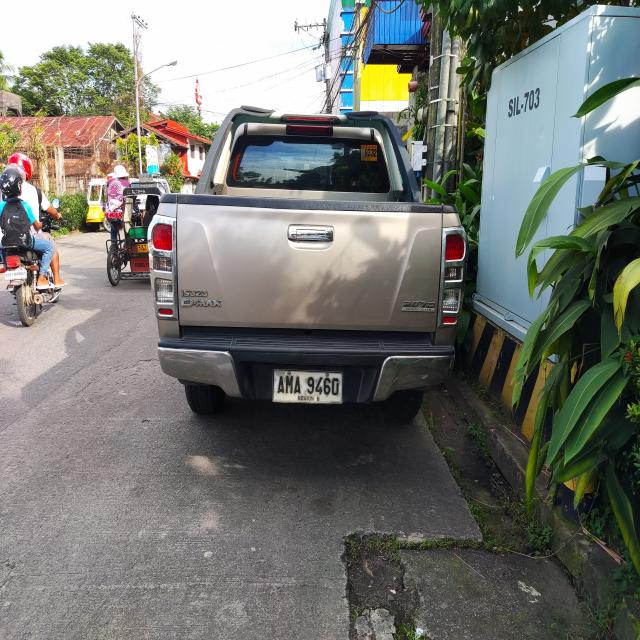plate: (271, 368, 344, 406)
